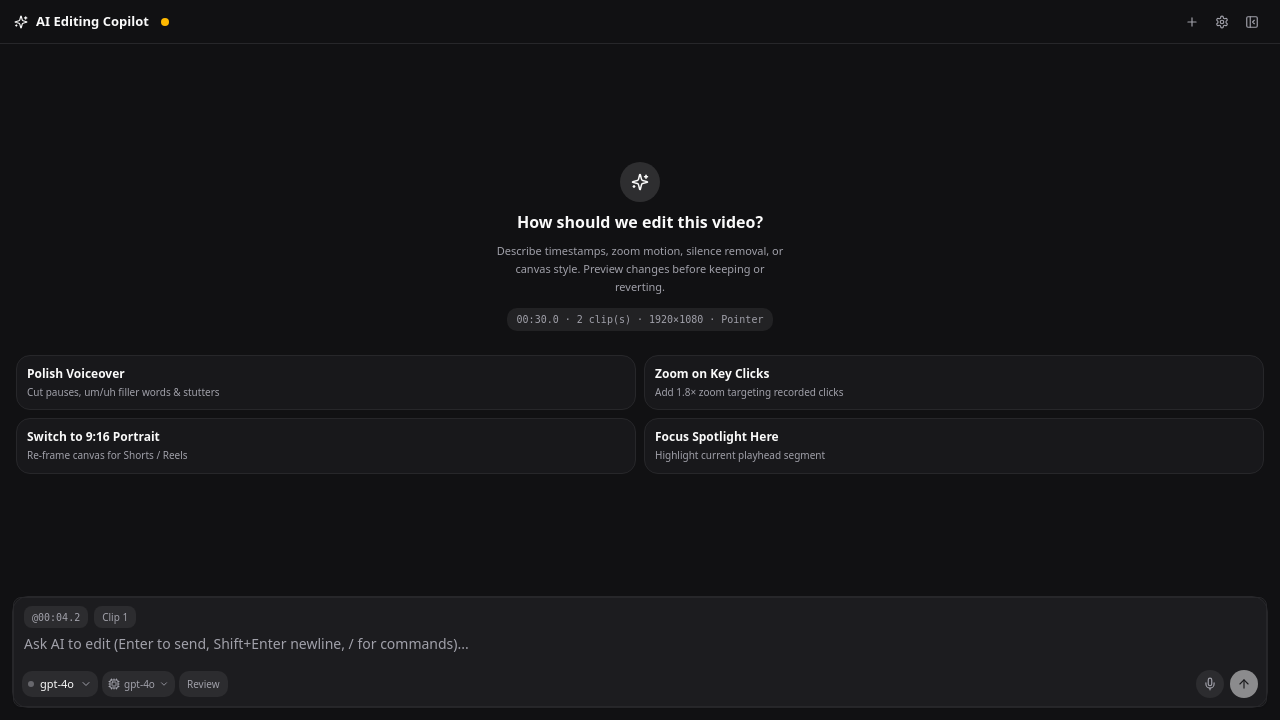
FrameTrail AI Copilot UI › keeps SettingsDrawer API key write-only and emits updateConfig / clearApiKey / sidecar.start
This screenshot has width=1280, height=720.
Later steps or results of the test are not shown.
Click the button named "Model Settings" at [1222, 22], box [1208,8,1236,36]
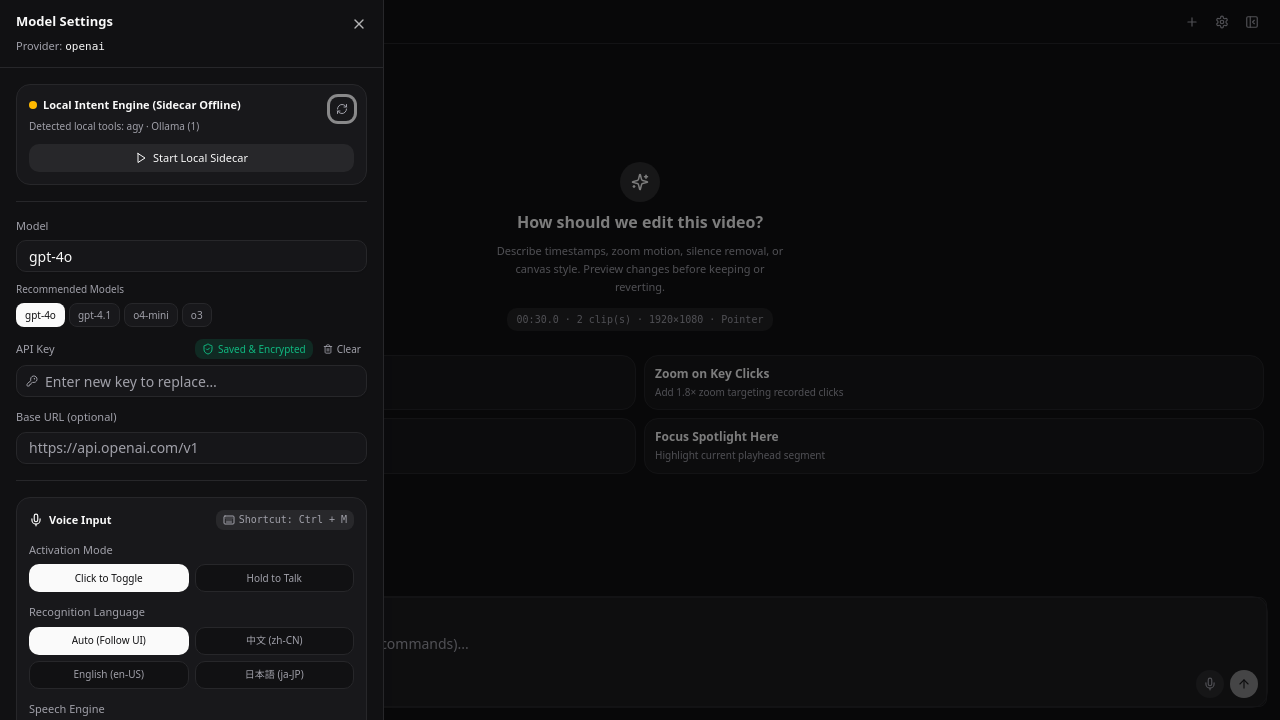
Expected: the element with test id "api-key-saved-badge" reads "Saved & Encrypted", [218,342,306,356]
Expected: the password field labelled "API Key" is empty
Submit a new key
Type "sk-test-secret-123" into the password field labelled "API Key" at [192, 381], box [16,365,367,397]
Then press Enter
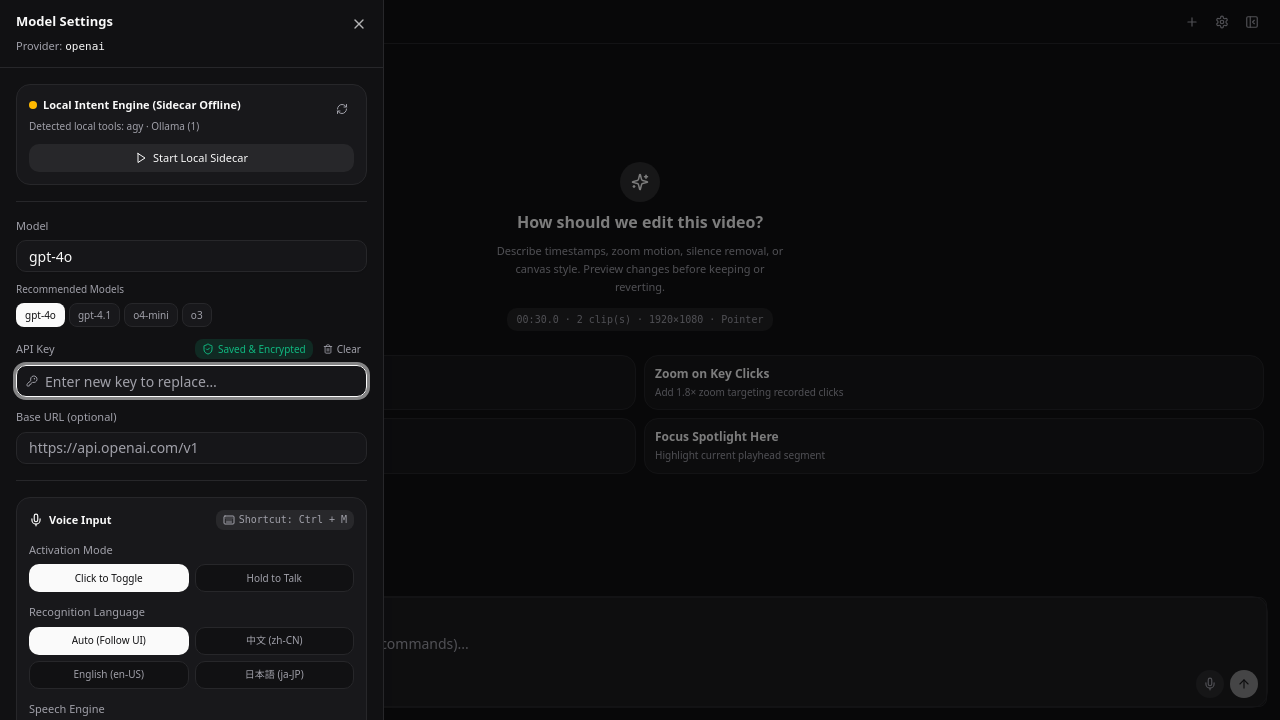
Expected: the password field labelled "API Key" is empty, [16,365,367,397]
